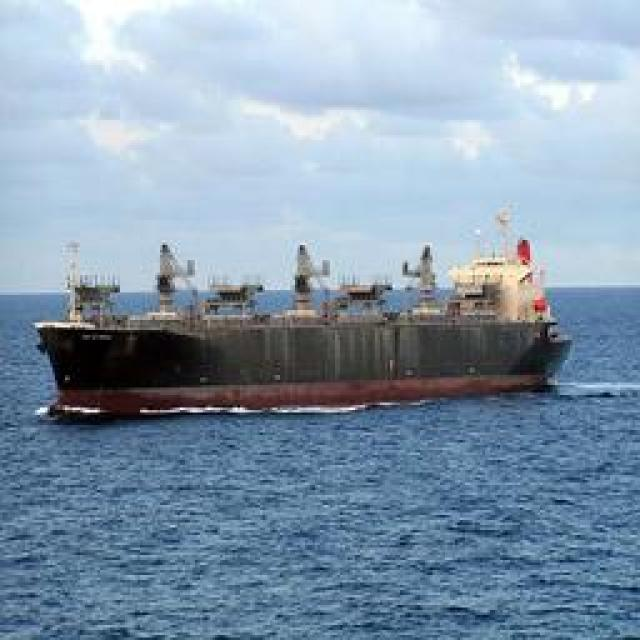CIV_Ship: (29, 220, 579, 415)
